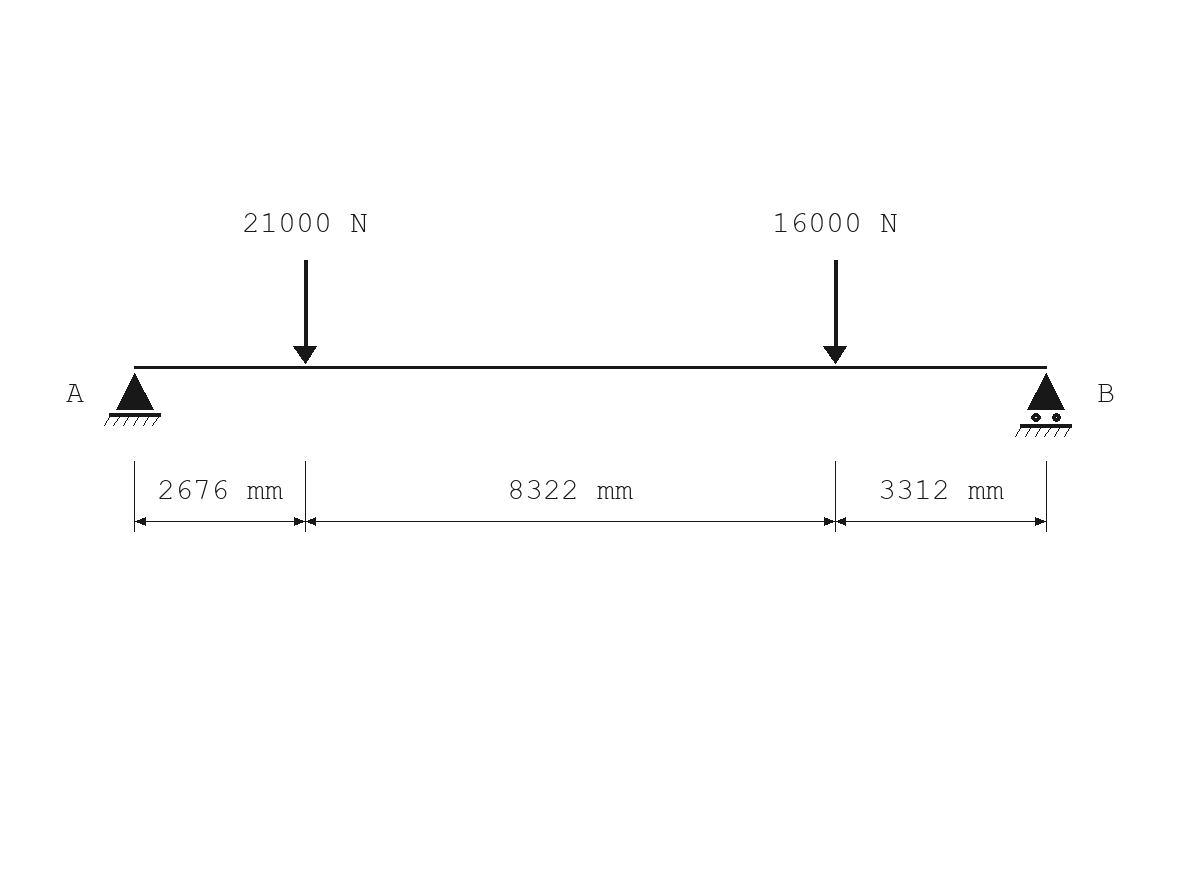pin_support: (104, 373, 161, 426)
point_load: (293, 260, 317, 364), (823, 260, 847, 364)
roller_support: (1015, 373, 1072, 437)
